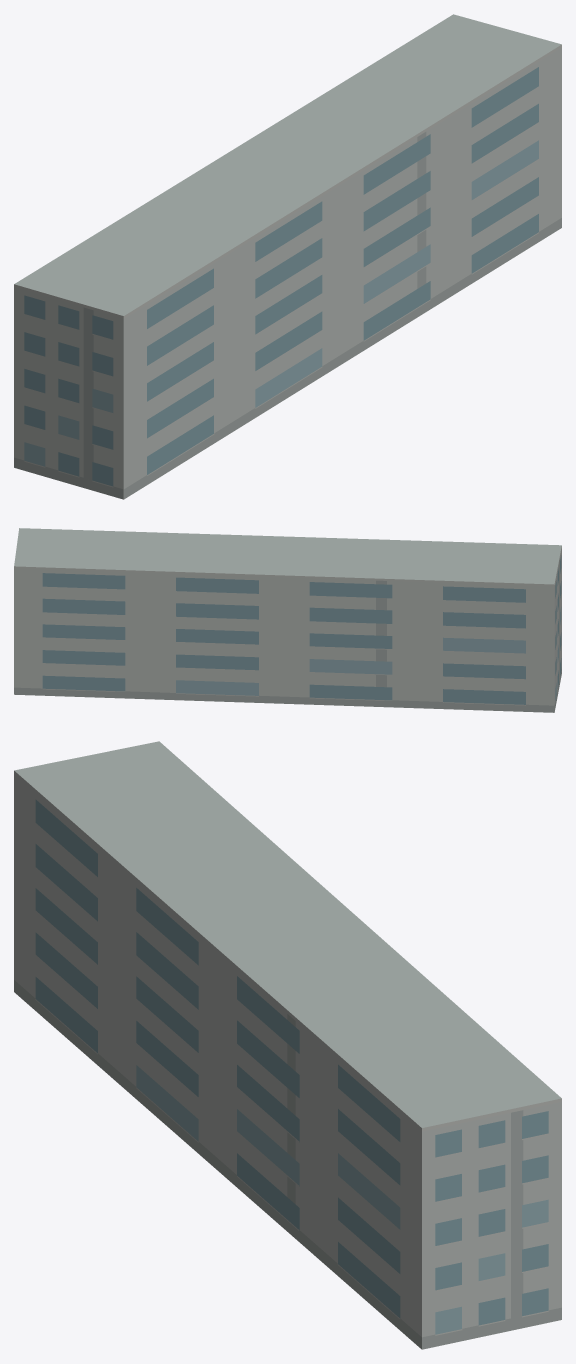
File: residential-e71377c8-7d16-45e8-adcb-7844a76beb65.glb
3 views of the same model, one above another, from view 1: azimuth 30°, elevation 25°; view 2: azimuth 150°, elevation 25°; view 3: azimuth 270°, elevation 25° (orthographic). The views are drawn at different scales.
Parts seen in each view (by area): view 1: residential-e71377c8-7d16-45e8-adcb-7844a76beb65.tmp; view 2: residential-e71377c8-7d16-45e8-adcb-7844a76beb65.tmp; view 3: residential-e71377c8-7d16-45e8-adcb-7844a76beb65.tmp.
Boxes of the visible parts, x1=… form: residential-e71377c8-7d16-45e8-adcb-7844a76beb65.tmp: x1=14, y1=14, x2=561, y2=499; residential-e71377c8-7d16-45e8-adcb-7844a76beb65.tmp: x1=14, y1=528, x2=561, y2=712; residential-e71377c8-7d16-45e8-adcb-7844a76beb65.tmp: x1=14, y1=741, x2=561, y2=1349.
Bounding box in the file's own units: 57.12 × 15.25 × 34.19.
